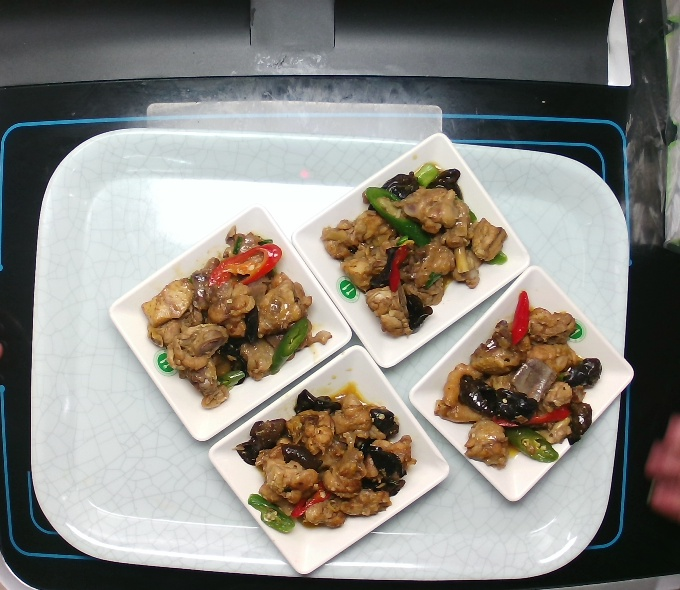wcq-LaZiJi: (139, 223, 335, 412), (317, 159, 509, 342), (431, 287, 604, 471), (231, 382, 420, 538)
